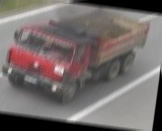truck: (0, 0, 152, 113)
